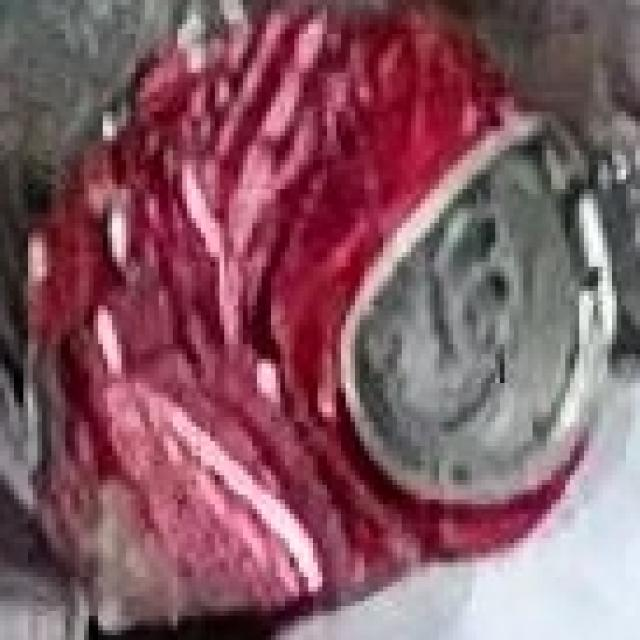litter: (61, 12, 615, 621)
